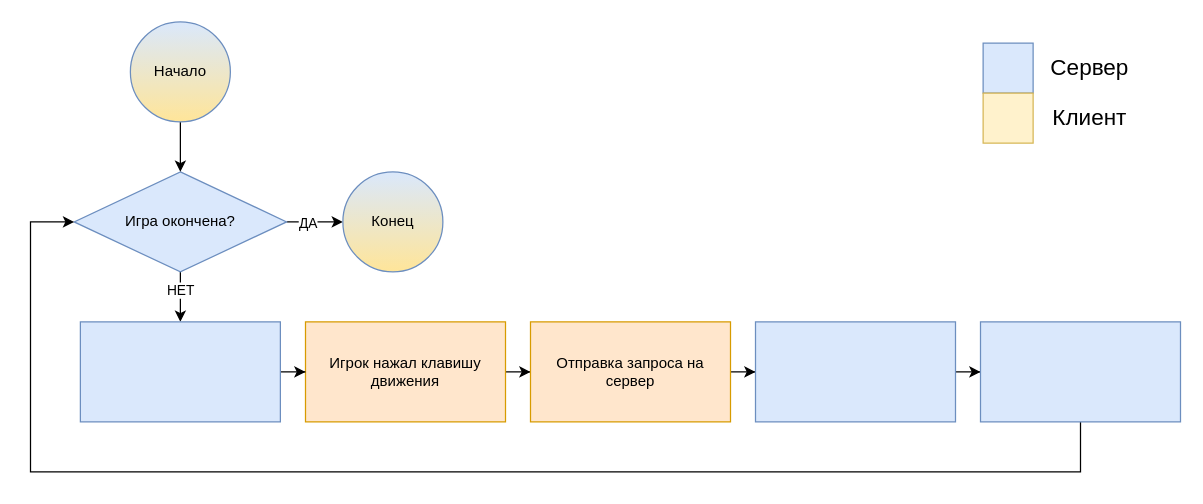
Image size: 1203x504. Some labels were removed from this diagram. The centre of each missing label's shape, as x and y in pixels:
Выполнение функции передвижения: pixel 1079 371
Ожидание запроса от игрока: pixel 179 371
Получение запроса от игрока: pixel 855 371
